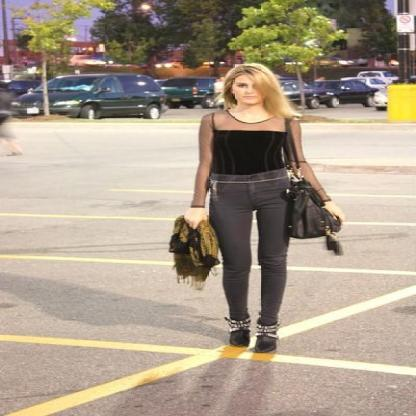bag: (283, 178, 341, 255)
jacket: (168, 216, 222, 292)
pants: (207, 167, 302, 324)
shirt: (191, 107, 324, 207)
shoe: (224, 308, 280, 352)
